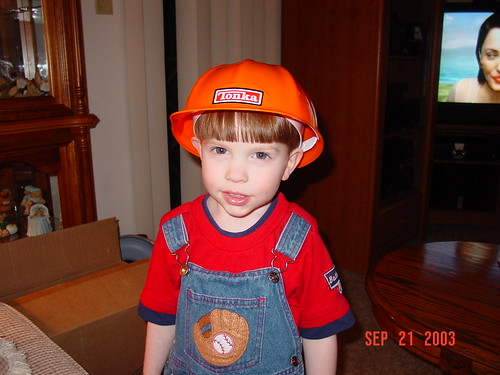person hardhat: (134, 58, 366, 373)
